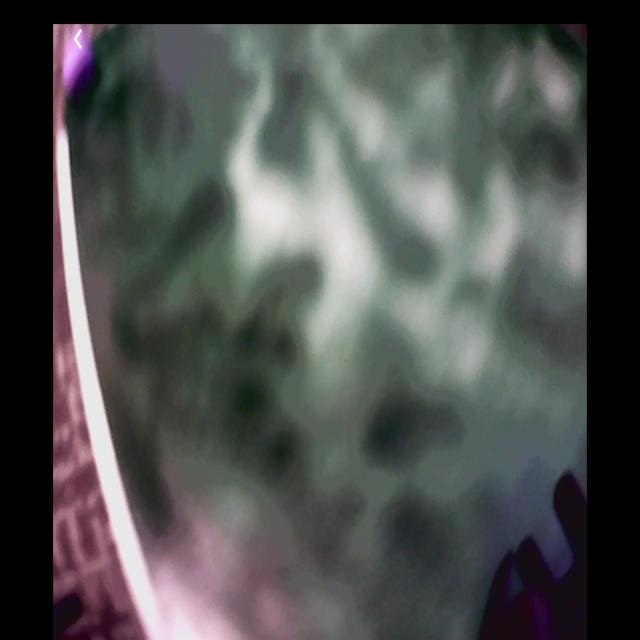ball: (63, 48, 103, 106)
